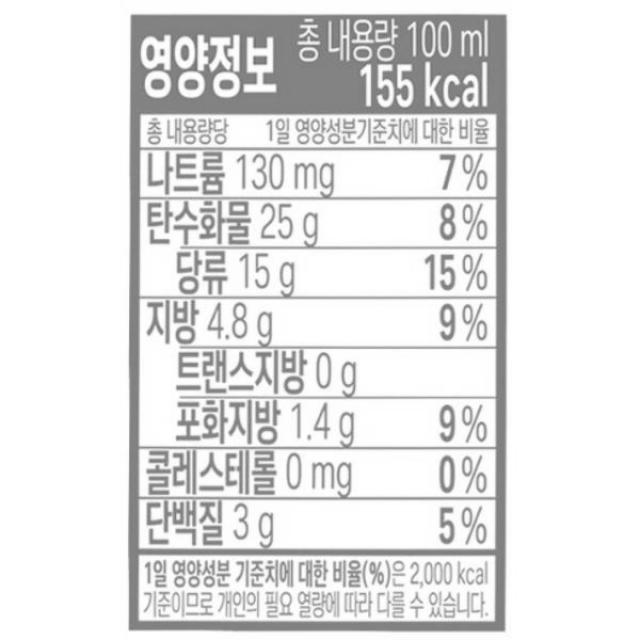Nutrition Label: (124, 8, 512, 637)
